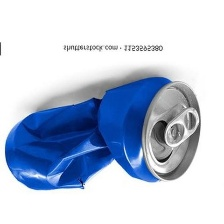can: (2, 71, 206, 196)
